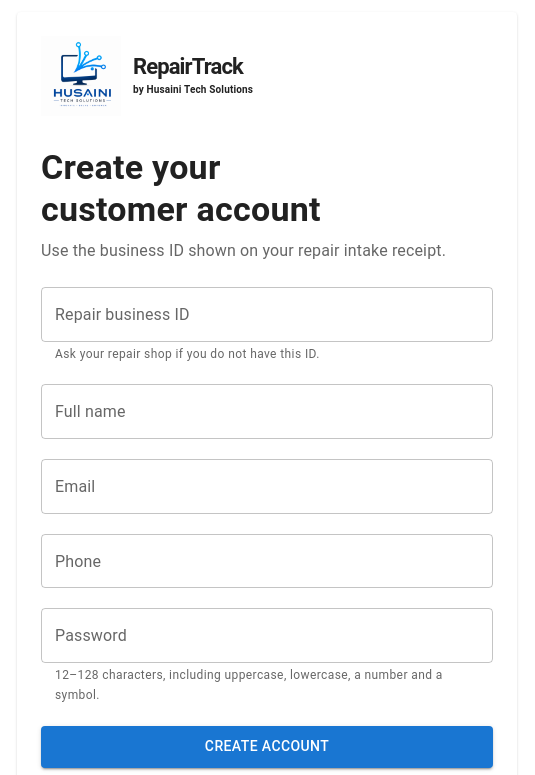
Test: honest authentication form states › shows visible required validation rather than silently refusing signup
Step 1. Click the button "Create account" → (267, 746), box x1=41 y1=726 x2=493 y2=768
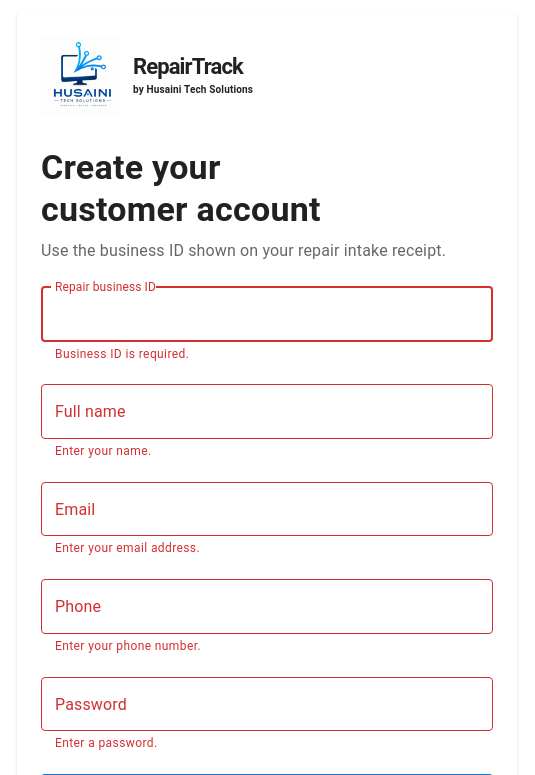
Result: the text "Enter your name." is shown at x1=55 y1=444 x2=152 y2=458
Result: the text "Enter your email address." is shown at x1=55 y1=542 x2=200 y2=556
Result: the text "Enter a password." is shown at x1=55 y1=736 x2=158 y2=750
